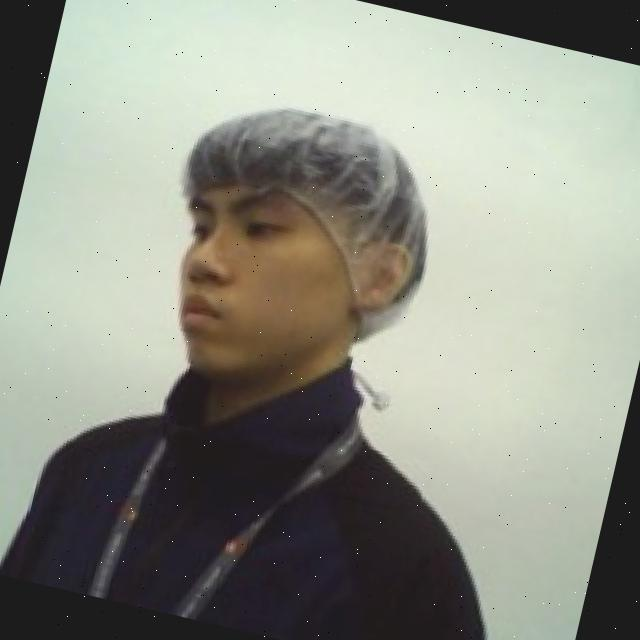gloves: (151, 75, 463, 358)
no_hairnet: (152, 196, 412, 418)
